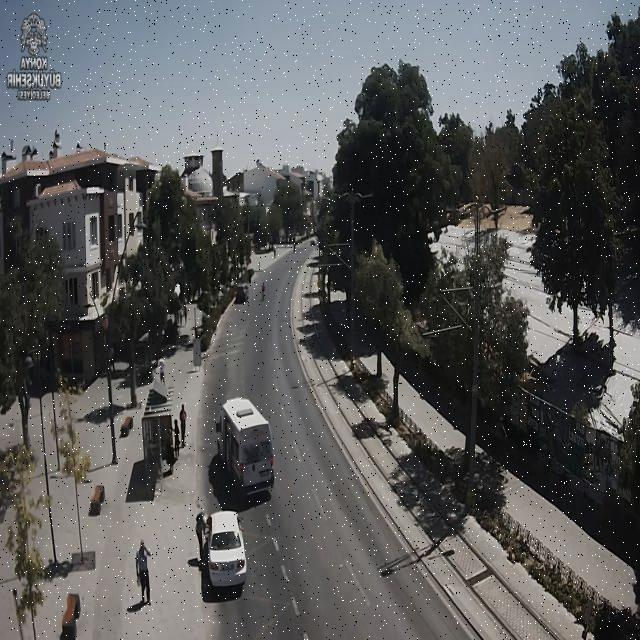Car: (205, 511, 247, 586), (234, 282, 249, 302)
Van: (213, 396, 275, 494)
